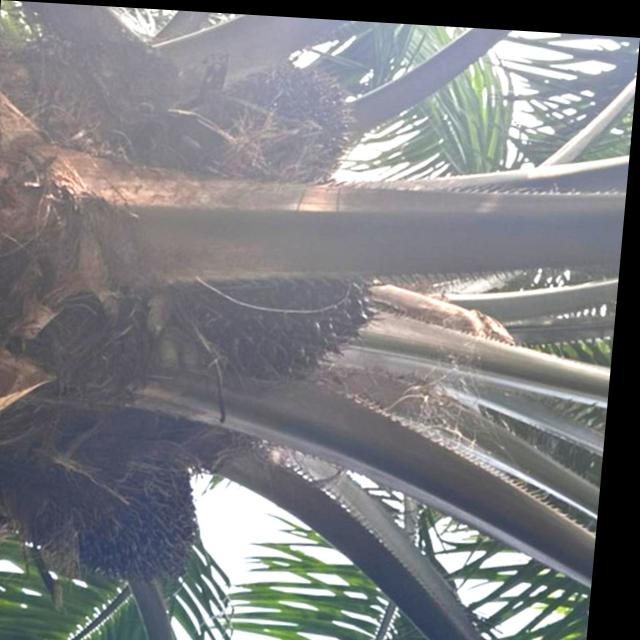ripe: (198, 256, 391, 377)
